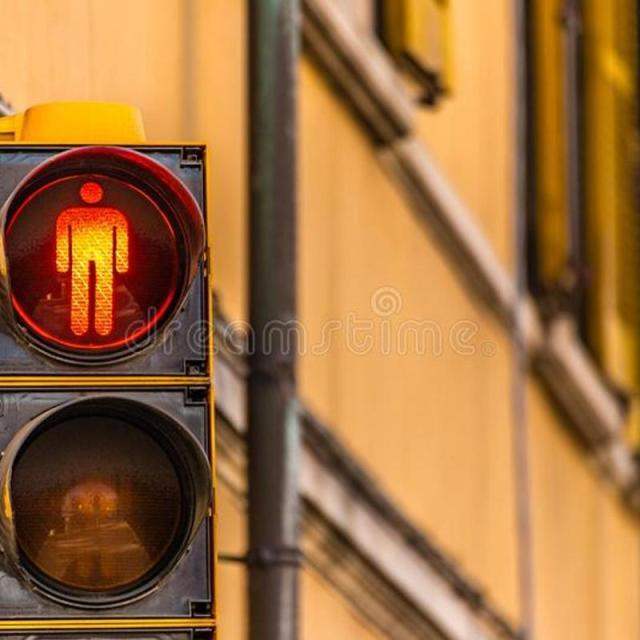red_light: (39, 175, 140, 348)
